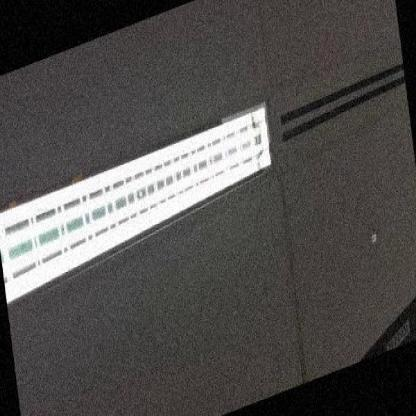light_on: (0, 75, 286, 314)
